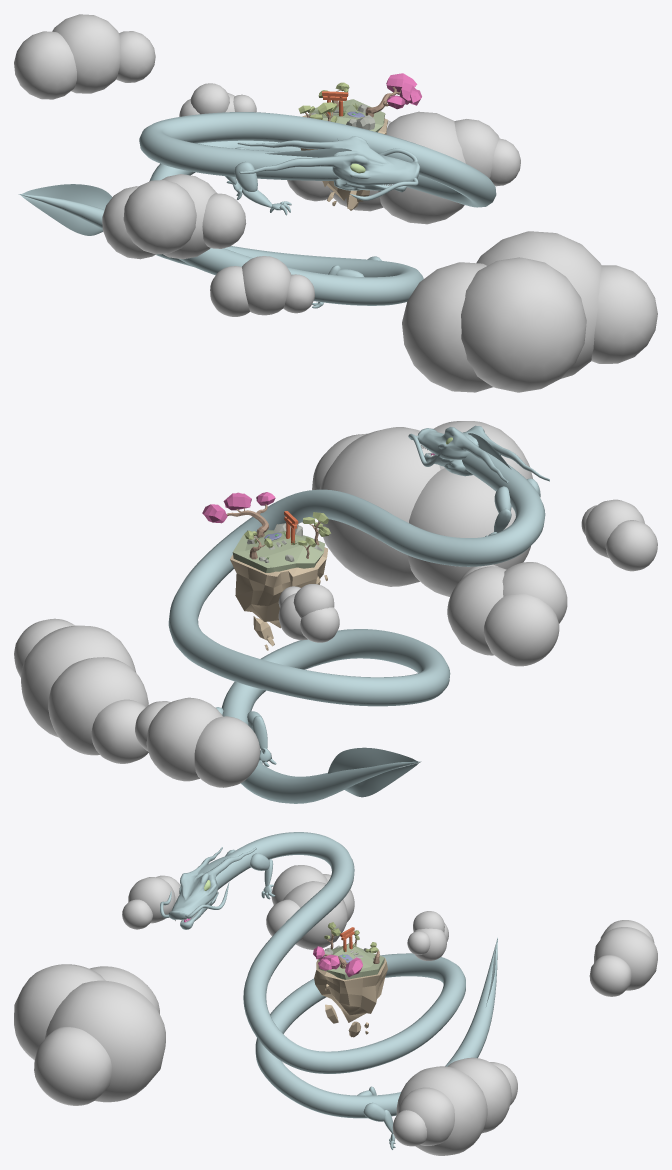
Rendered from floating_island_temple.glb.
3 views of the same model, one above another, from view 1: azimuth 30°, elevation 25°; view 2: azimuth 150°, elevation 25°; view 3: azimuth 270°, elevation 25° (orthographic). The views are drawn at different scales.
Parts seen in each view (by area): view 1: Object_20, Object_12, Object_17, Object_5, Object_15, Object_9; view 2: Object_20, Object_12, Object_15, Object_5, Object_17, Object_9, Object_8; view 3: Object_20, Object_12, Object_15, Object_5, Object_17.
Boxes of the visible parts, bbox=[...] form: Object_20: bbox=[14, 14, 657, 392]; Object_12: bbox=[18, 112, 496, 308]; Object_17: bbox=[386, 73, 421, 184]; Object_5: bbox=[308, 99, 385, 132]; Object_15: bbox=[300, 114, 388, 210]; Object_9: bbox=[298, 82, 358, 122]; Object_20: bbox=[14, 421, 657, 787]; Object_12: bbox=[168, 425, 549, 803]; Object_15: bbox=[230, 547, 327, 650]; Object_5: bbox=[232, 530, 324, 572]; Object_17: bbox=[202, 453, 434, 523]; Object_9: bbox=[244, 512, 330, 547]; Object_8: bbox=[226, 504, 320, 559]; Object_20: bbox=[14, 865, 657, 1155]; Object_12: bbox=[160, 832, 497, 1149]; Object_15: bbox=[314, 958, 387, 1037]; Object_5: bbox=[318, 943, 384, 979]; Object_17: bbox=[184, 918, 362, 976].
Bounding box in the file's own units: 0.5194 × 0.3046 × 0.7828.
